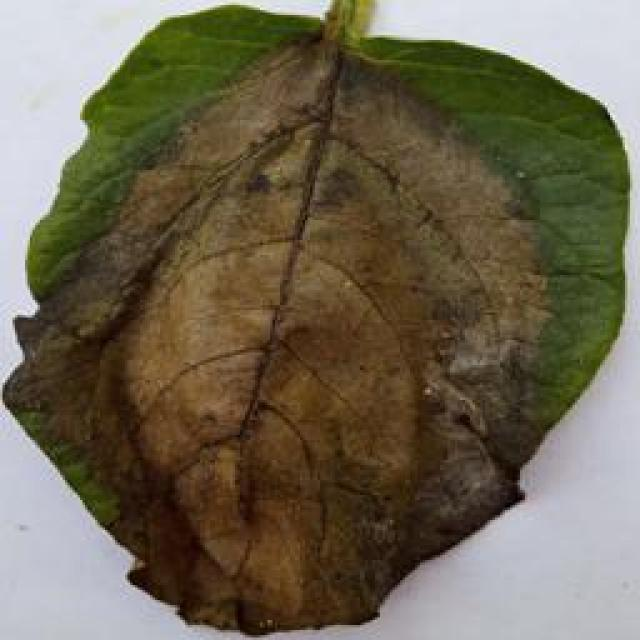Potato_Late_Blight: (0, 12, 625, 640)
